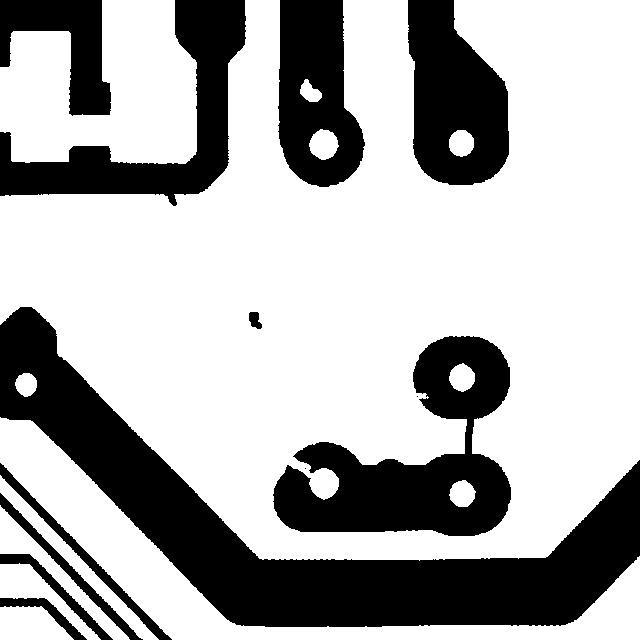copper: (239, 302, 271, 338)
mousebite: (402, 382, 438, 408)
open: (276, 447, 324, 487)
pin-hole: (290, 69, 331, 111)
short: (455, 406, 483, 471)
spur: (152, 174, 186, 215)
